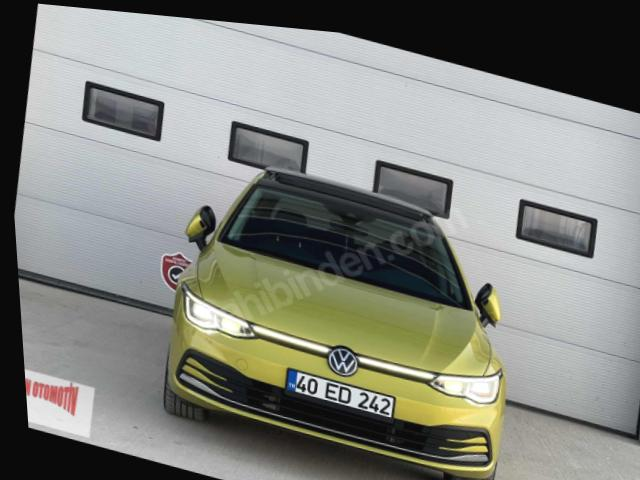plaka: (286, 370, 393, 417)
